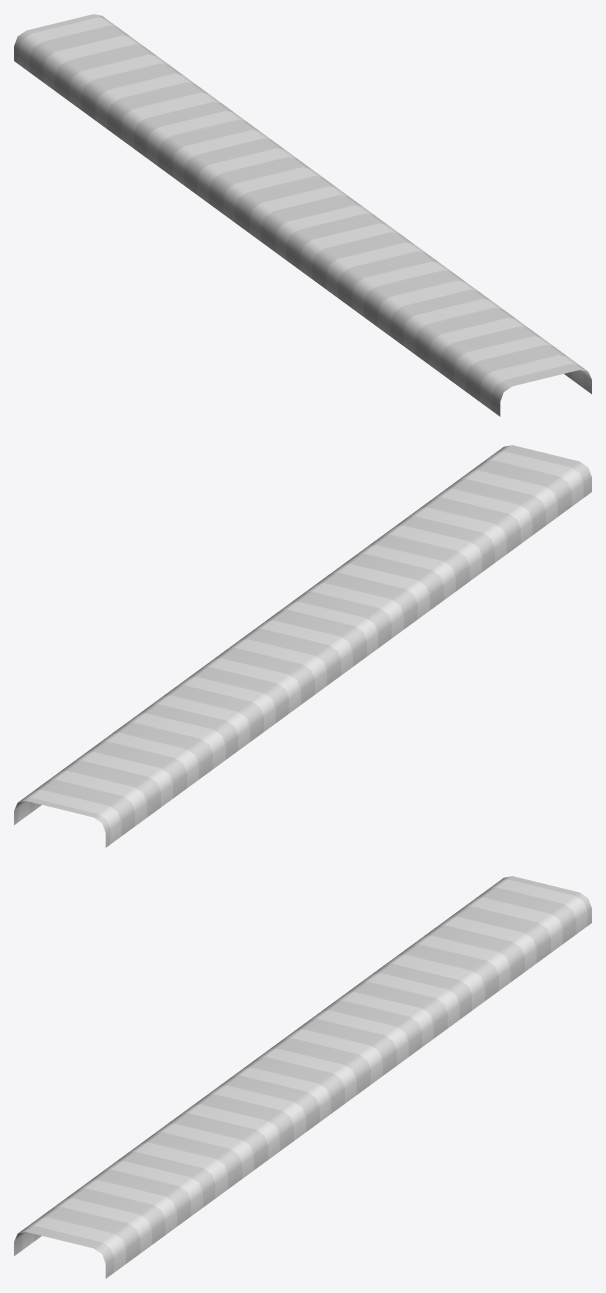
Rendered from road_04.fbx.
The picture shows the model from 3 angles, top to bottom: view 1: azimuth 30°, elevation 25°; view 2: azimuth 150°, elevation 25°; view 3: azimuth 330°, elevation 25°; orthographic projection.
Parts seen in each view (by area): view 1: road_01; view 2: road_01; view 3: road_01.
Part boxes in pixels (x1,y1,x2,y2): road_01: (14, 14, 591, 416); road_01: (14, 445, 591, 847); road_01: (14, 876, 591, 1278).
Bounding box in the file's own units: 1255 × 359 × 11506.
Materials: 1 (1 with a texture image).
